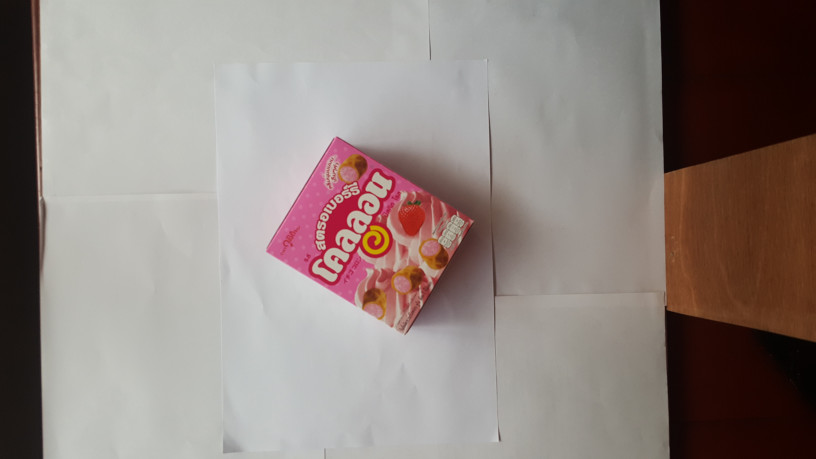collon-strawberry: (262, 136, 475, 339)
